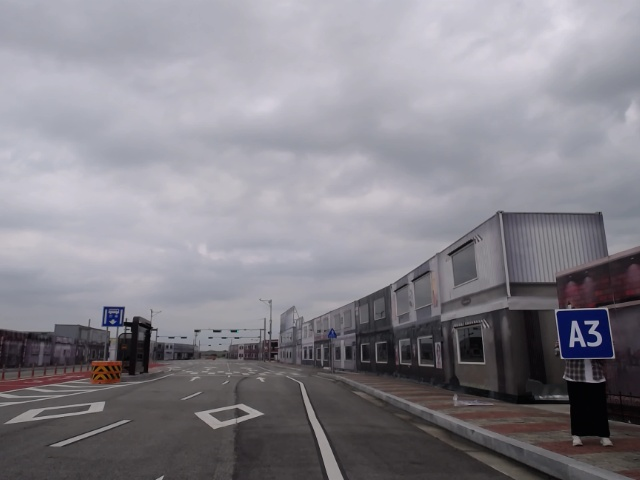delivery_a3: (556, 308, 615, 359)
